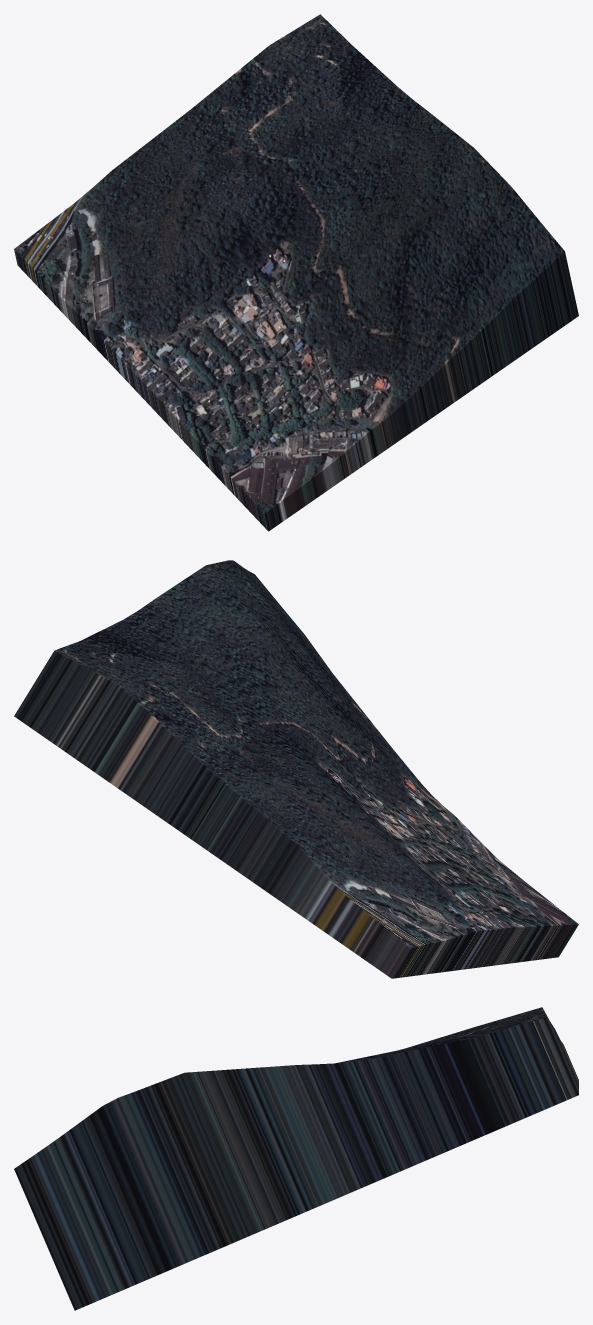
3 views of the same model, one above another, from view 1: azimuth 30°, elevation 25°; view 2: azimuth 150°, elevation 25°; view 3: azimuth 270°, elevation 25° (orthographic). The views are drawn at different scales.
Parts seen in each view (by area): view 1: 0_2_19; view 2: 0_2_19; view 3: 0_2_19.
Part boxes in pixels (x1=…): 0_2_19: x1=14, y1=14, x2=578, y2=531; 0_2_19: x1=14, y1=560, x2=578, y2=978; 0_2_19: x1=14, y1=1007, x2=578, y2=1310.
Size of the model in its own units: 607 by 505 by 607.
Materials: 1 (1 with a texture image).
